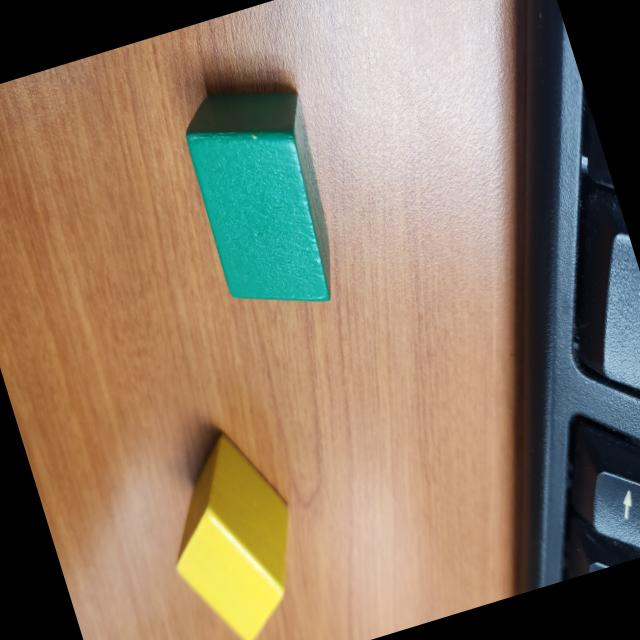green: (172, 68, 360, 330)
yellow: (141, 417, 326, 640)
